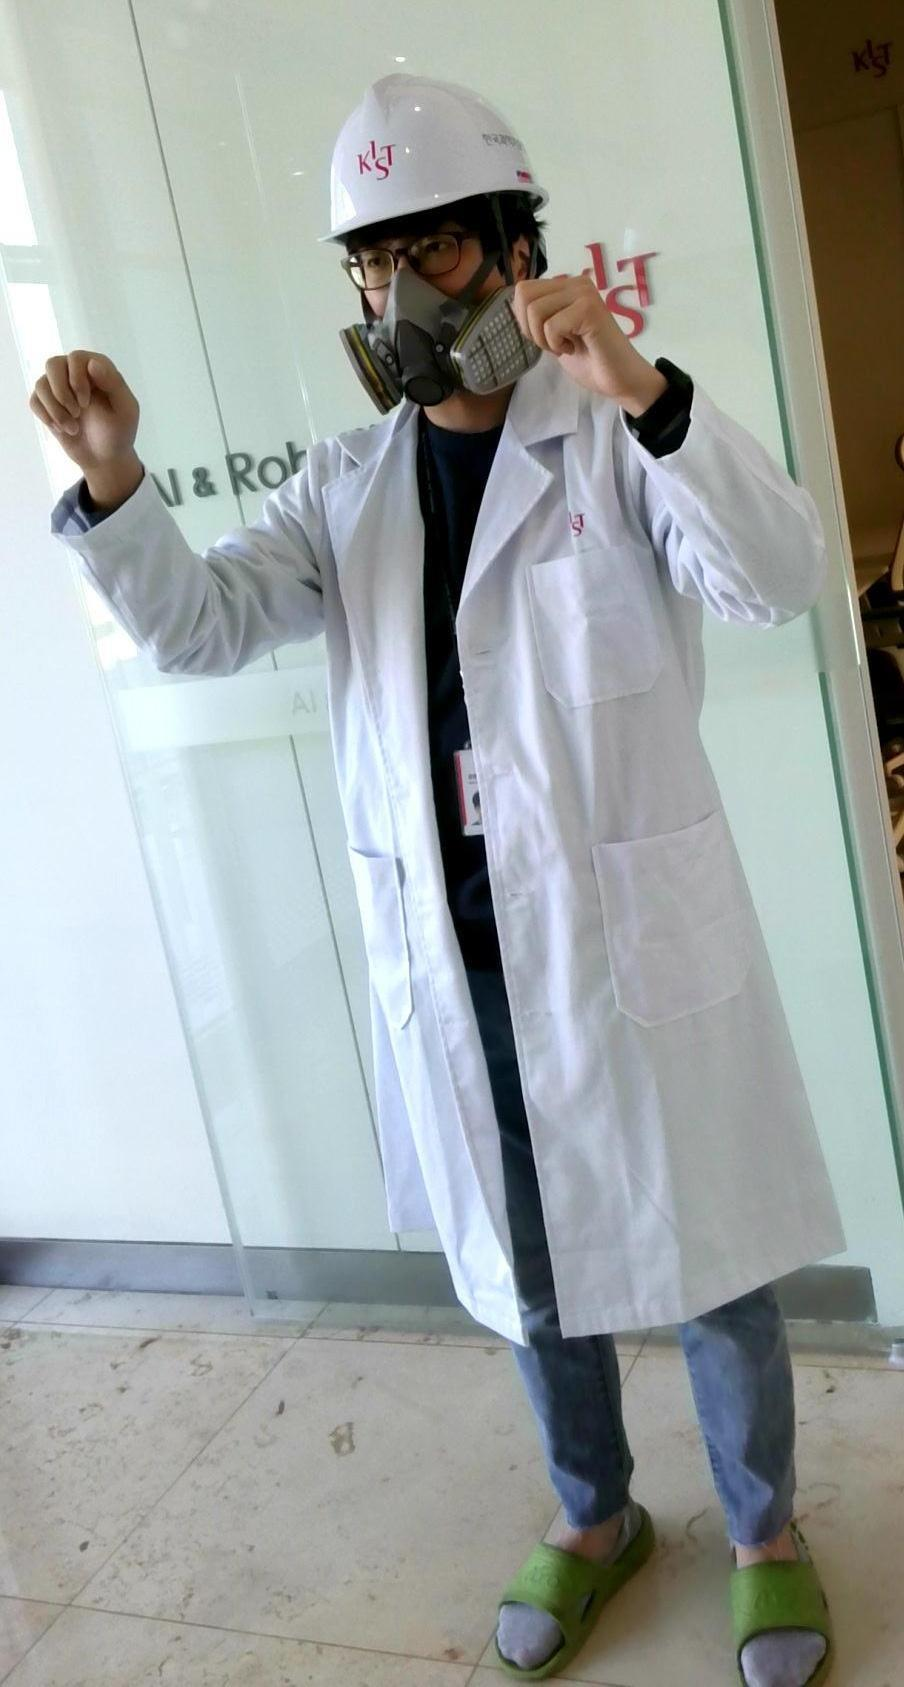lab_coat: (291, 432, 763, 1313)
